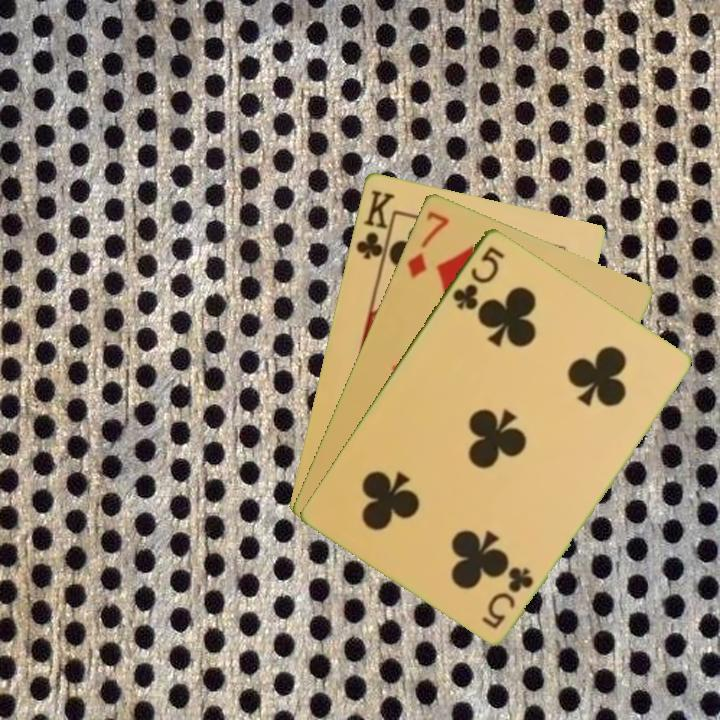5c: (448, 242, 507, 313), (479, 563, 537, 632)
7d: (403, 207, 452, 281)
Kc: (352, 186, 397, 269)
